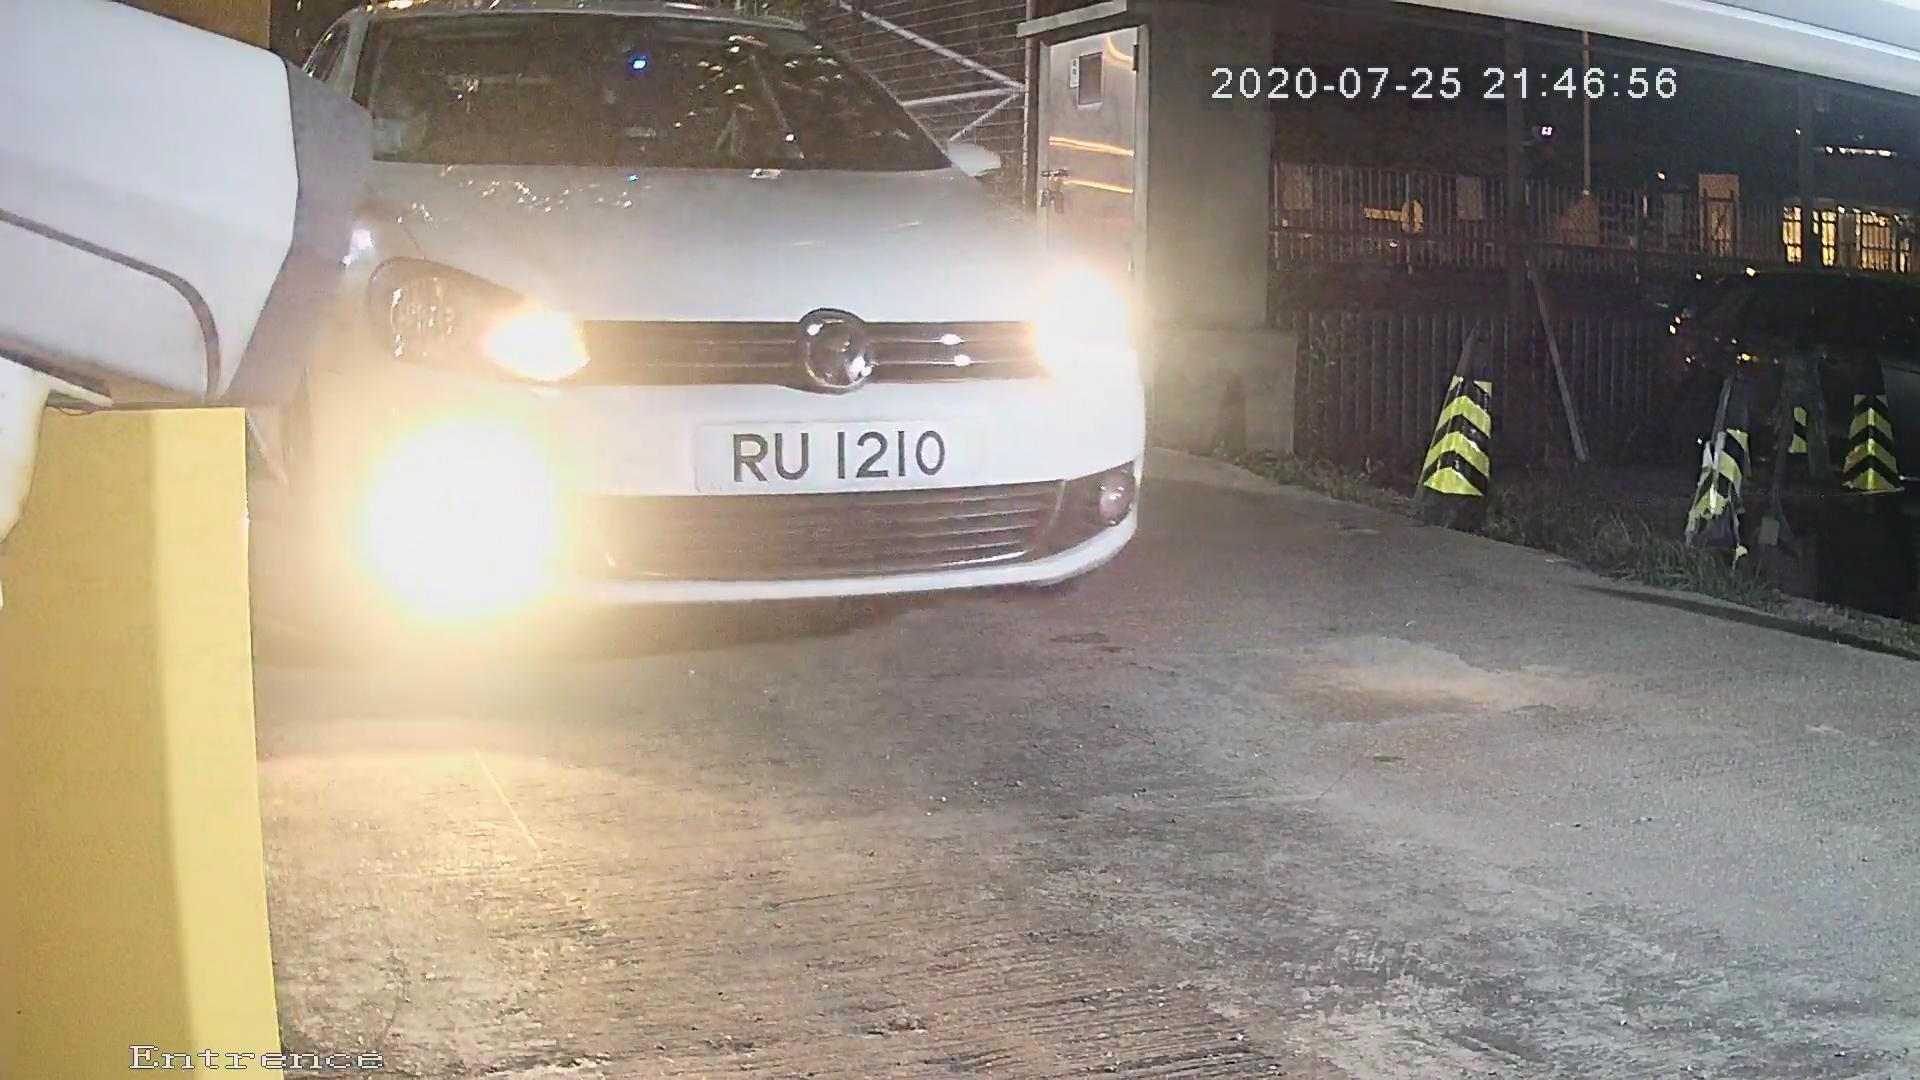privatecar: (249, 20, 1192, 676)
